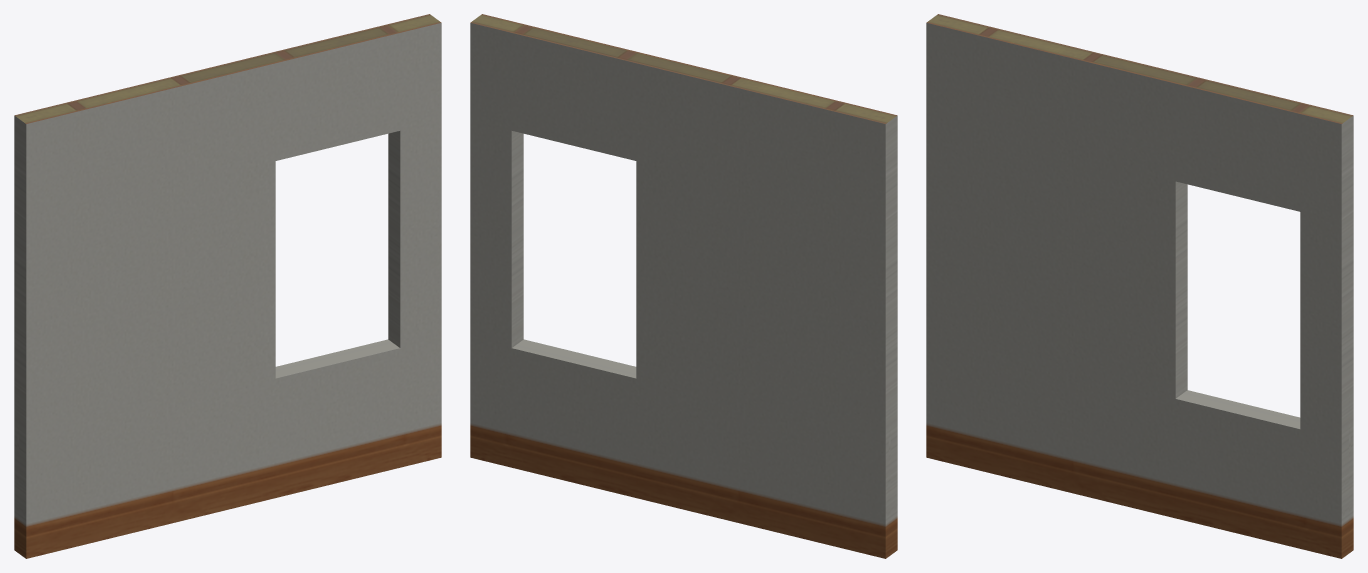
The model's file is wall4_7.fbx.
3 views of the same model, side by side, from view 1: azimuth 30°, elevation 25°; view 2: azimuth 150°, elevation 25°; view 3: azimuth 330°, elevation 25° (orthographic).
Visible parts, largest first — view 1: wall4_white_g; view 2: wall4_white_g; view 3: wall4_white_g.
Boxes of the visible parts, bbox=[...] form: wall4_white_g: bbox=[14, 14, 441, 558]; wall4_white_g: bbox=[470, 14, 897, 558]; wall4_white_g: bbox=[926, 14, 1353, 558].
Size of the model in its own units: 400 by 400 by 20.
